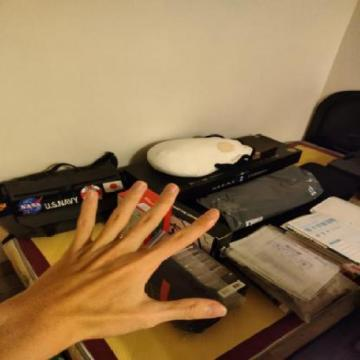hand: (44, 177, 228, 343)
